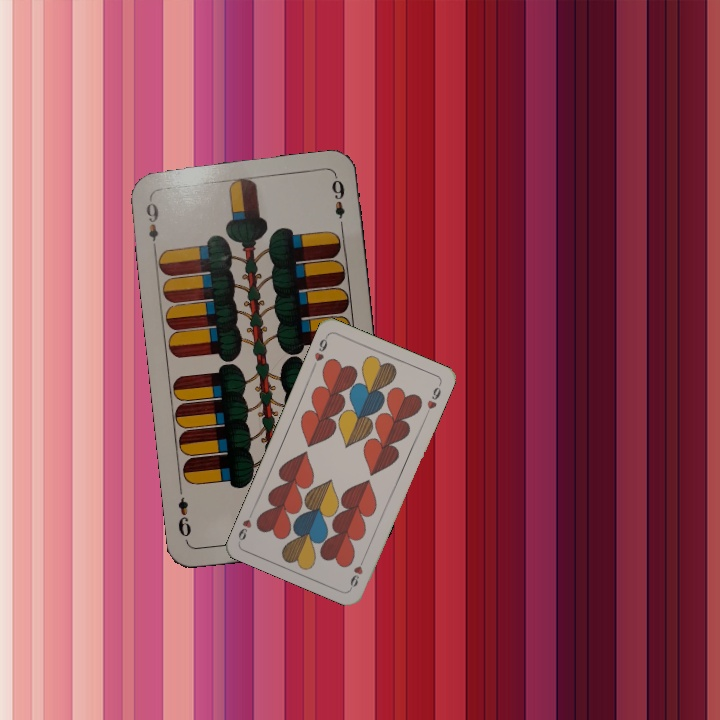E9: (142, 198, 162, 243)
H9: (346, 552, 368, 591), (309, 332, 331, 370)
